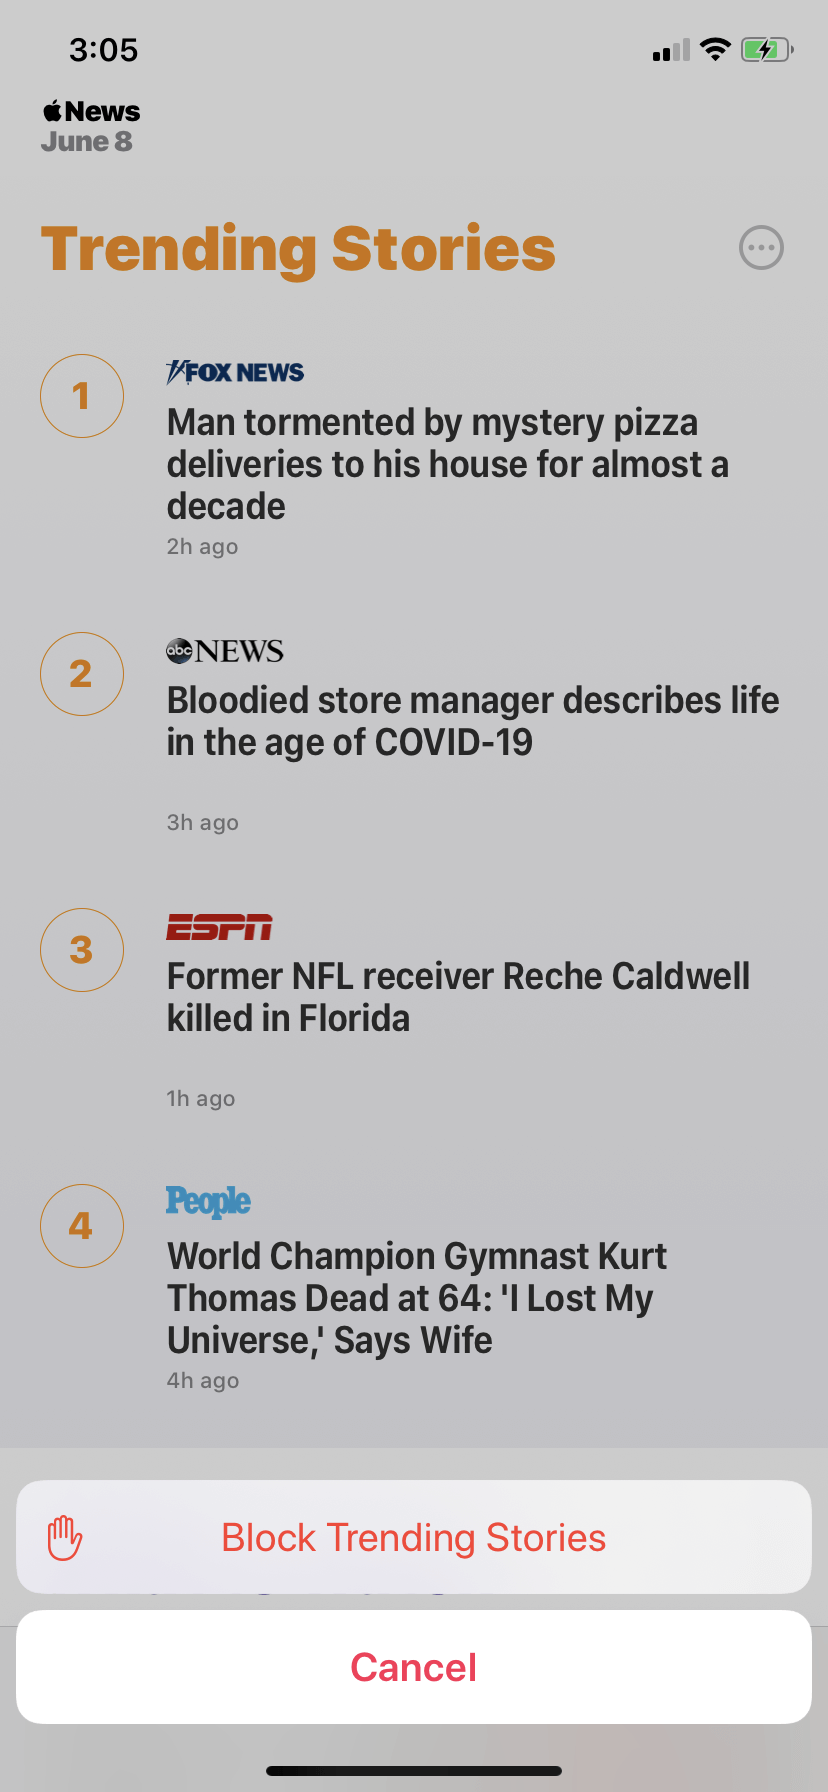Buttons: (726, 206, 807, 290)
